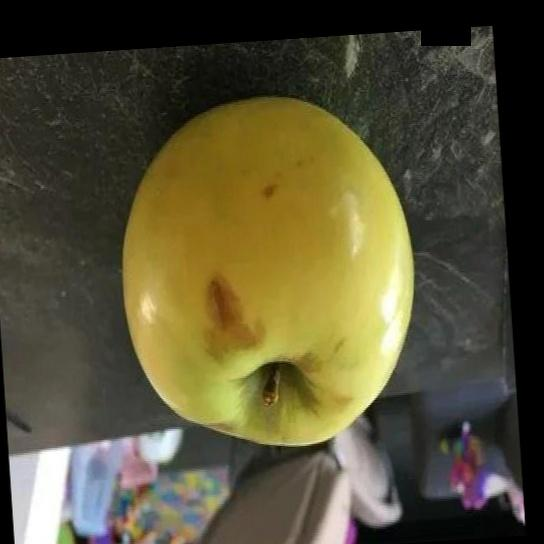green apple: (120, 95, 415, 451)
